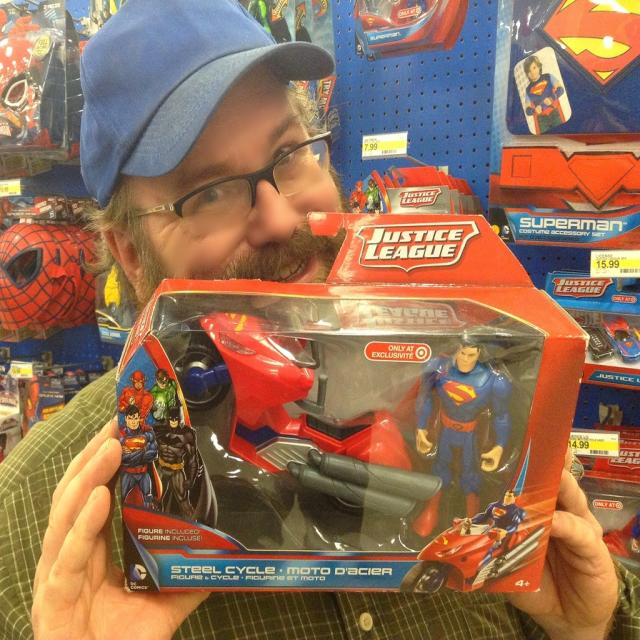Toy: (147, 320, 480, 561), (392, 335, 509, 517), (411, 487, 575, 608)
